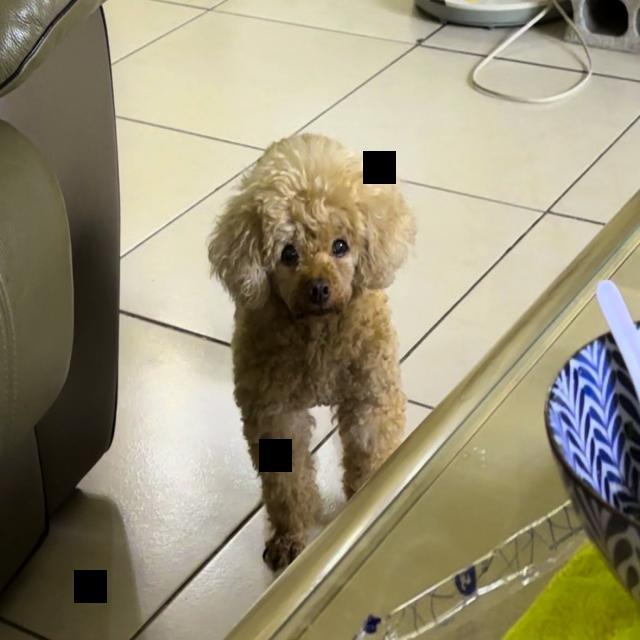adult_dog: (203, 133, 418, 576)
